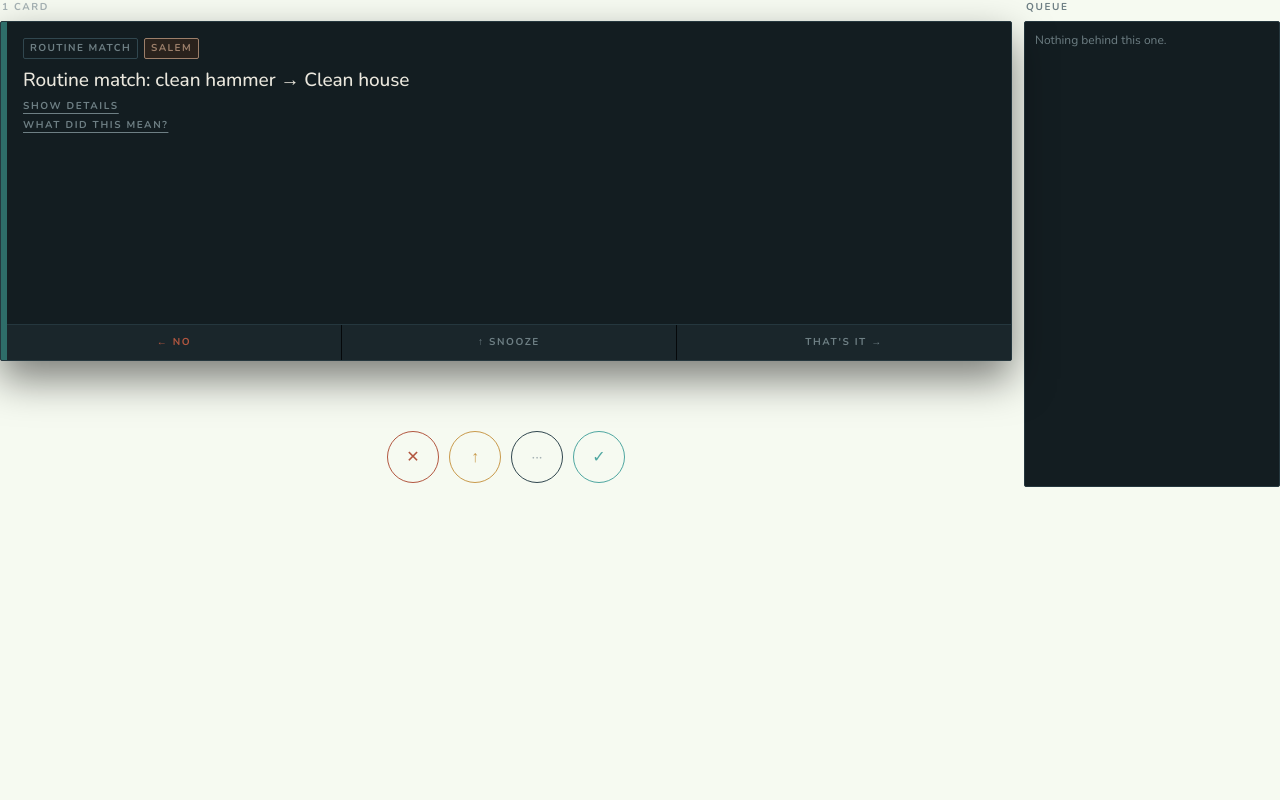
Test: Deck — correction picker (task #13 render) › "What did this mean?" opens the picker with every item EXCEPT the proposal
This screenshot has width=1280, height=800.
What coordinates should you click on to do the following:
click the button with test id "deck-correct-open"
I would click on:
 (96, 126)
Its box is top-left (23, 118), bottom-right (168, 133).
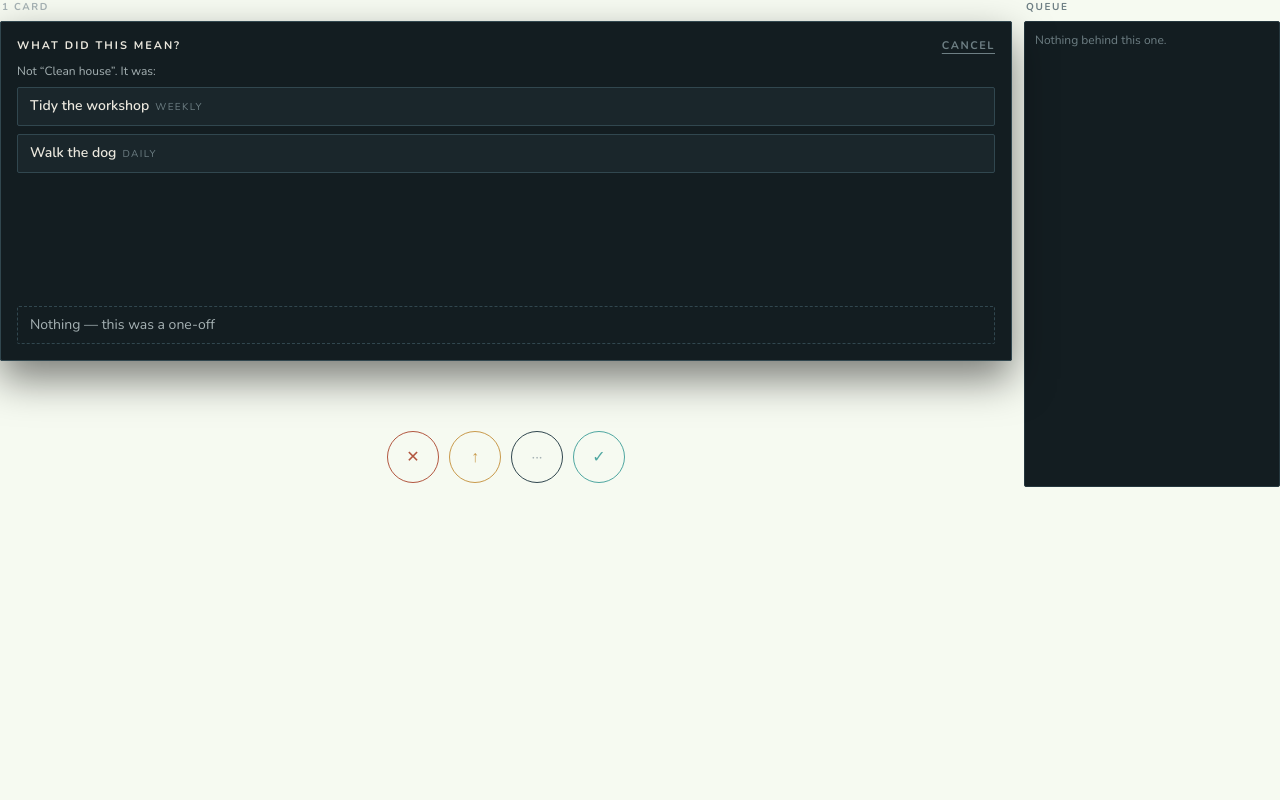
Expected: the dialog with test id "deck-correct-picker" is shown, top-left (0, 21), bottom-right (1012, 361)
Expected: the button with test id "deck-correct-one-off" is shown, top-left (17, 306), bottom-right (995, 344)
